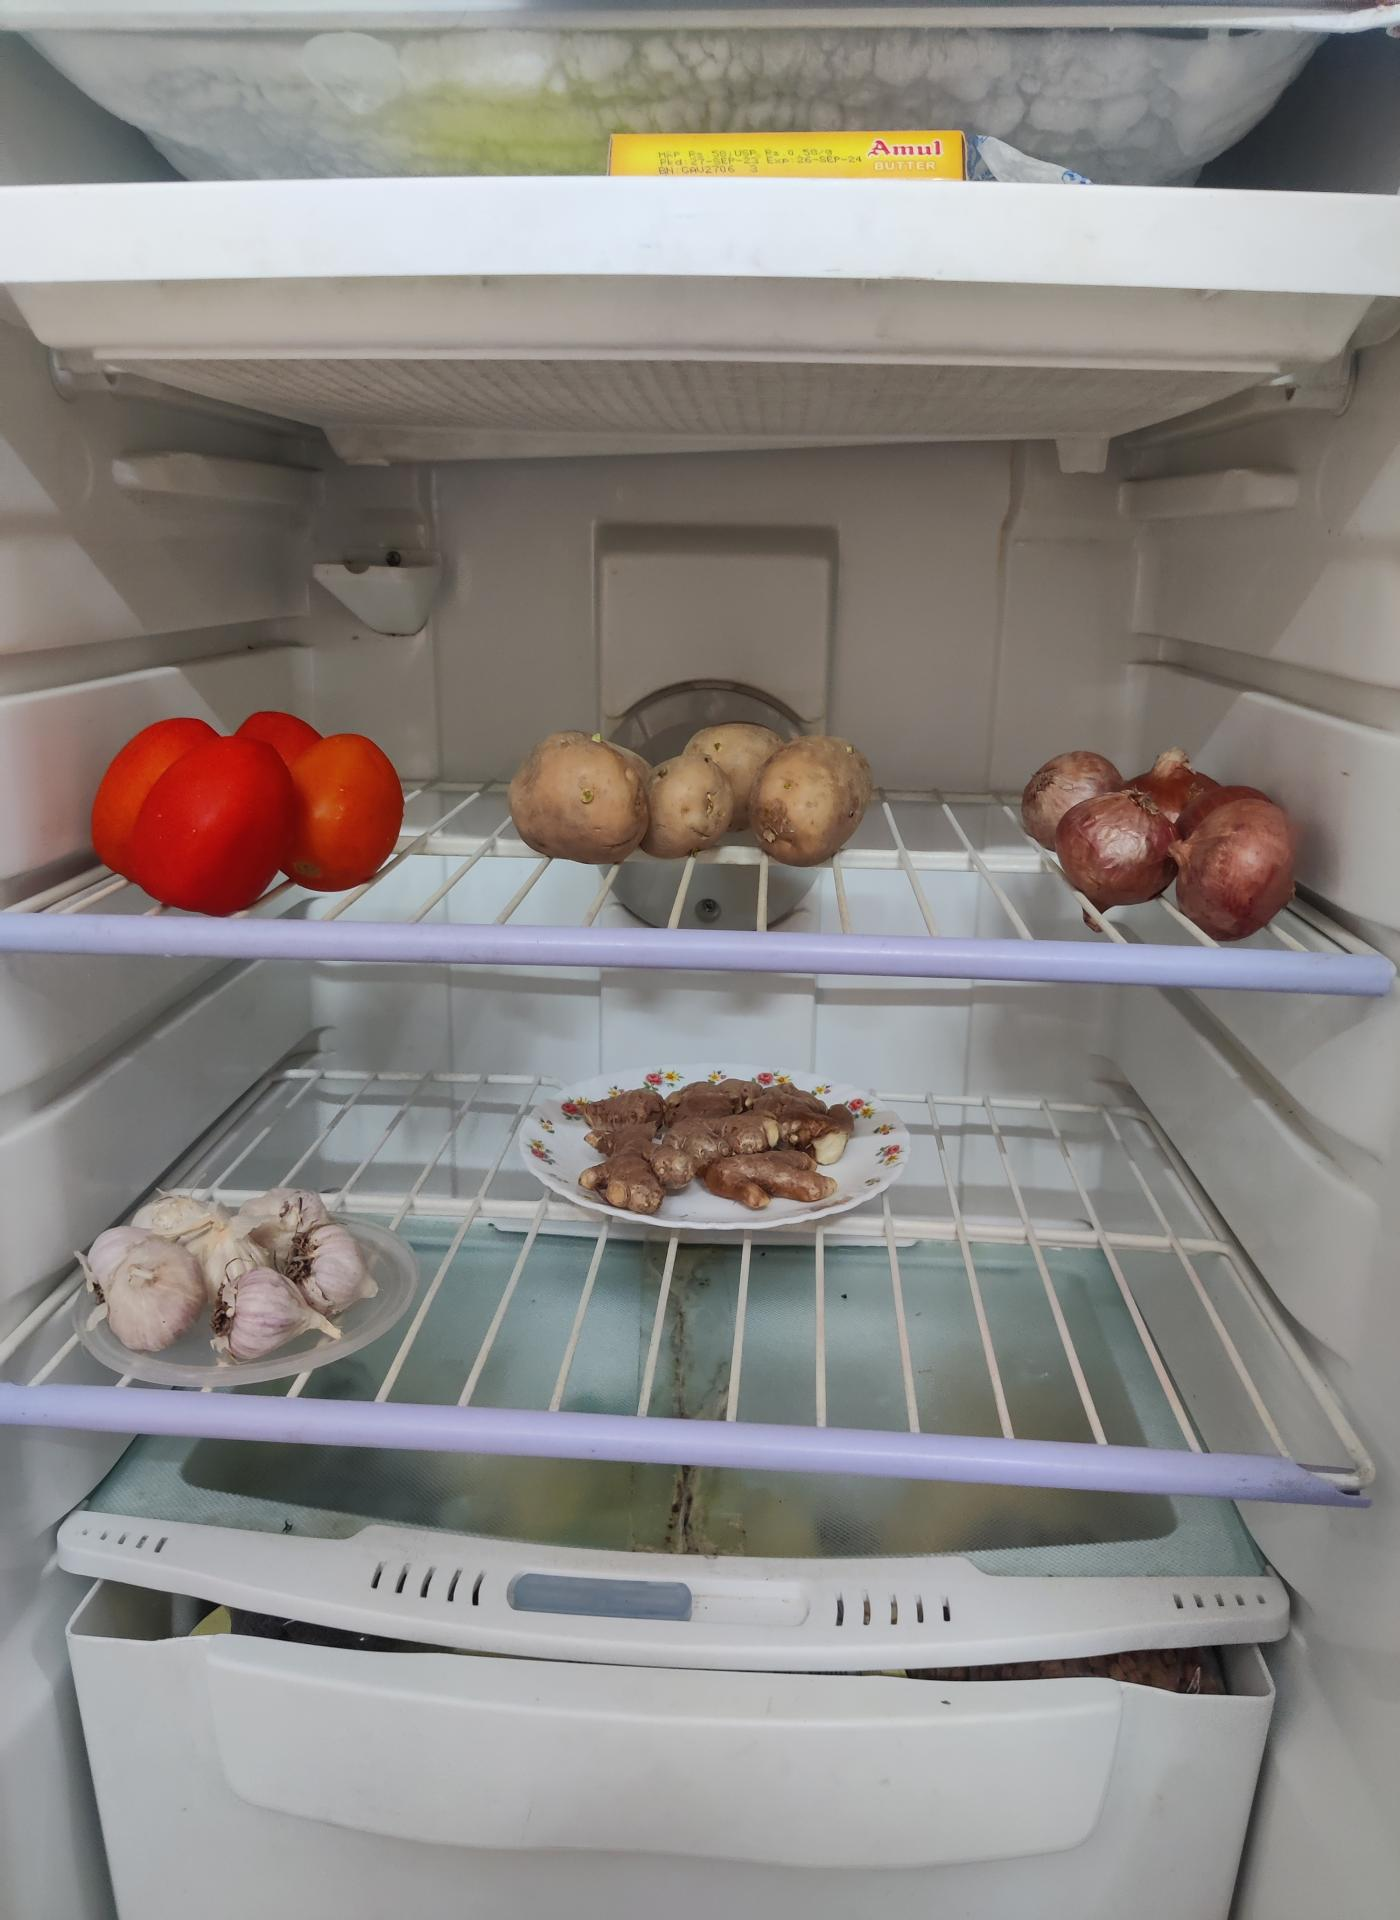garlic: (89, 1184, 377, 1354)
ginger: (538, 1073, 872, 1216)
onion: (1023, 741, 1303, 933)
potato: (514, 723, 881, 869)
tomato: (97, 714, 410, 917)
